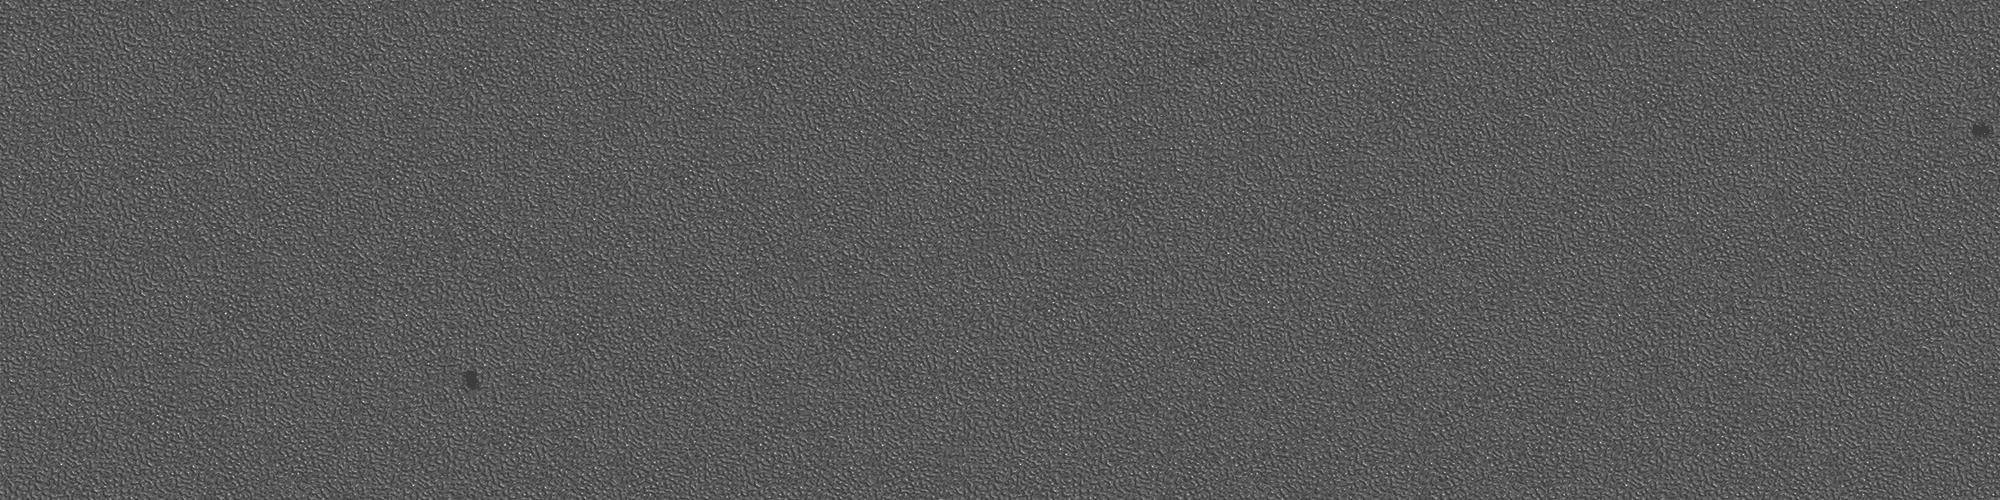Decomposed: (453, 366, 489, 393)
